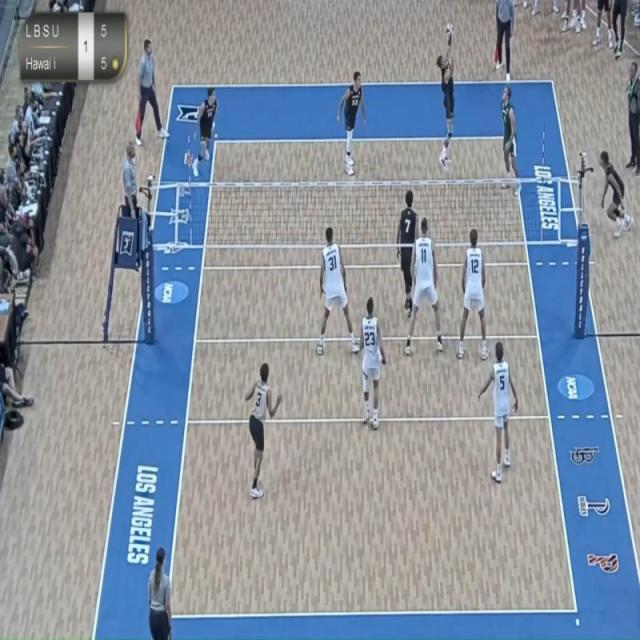volleyball: (443, 20, 456, 39)
